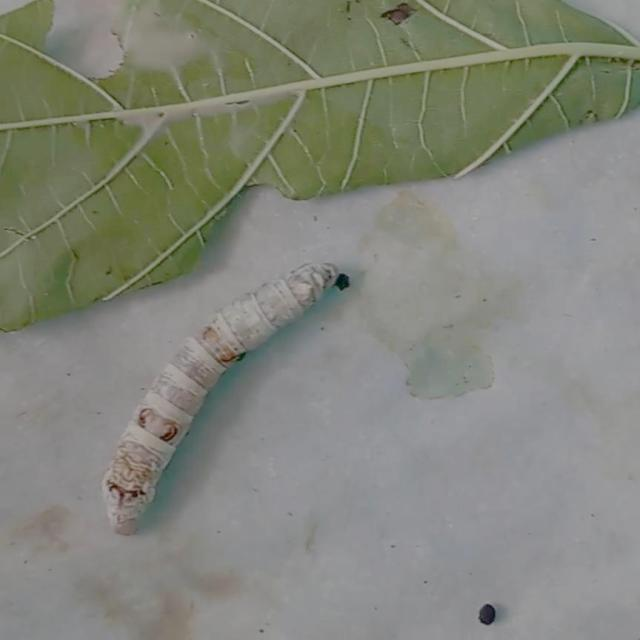Grasserie: (85, 233, 360, 572)
